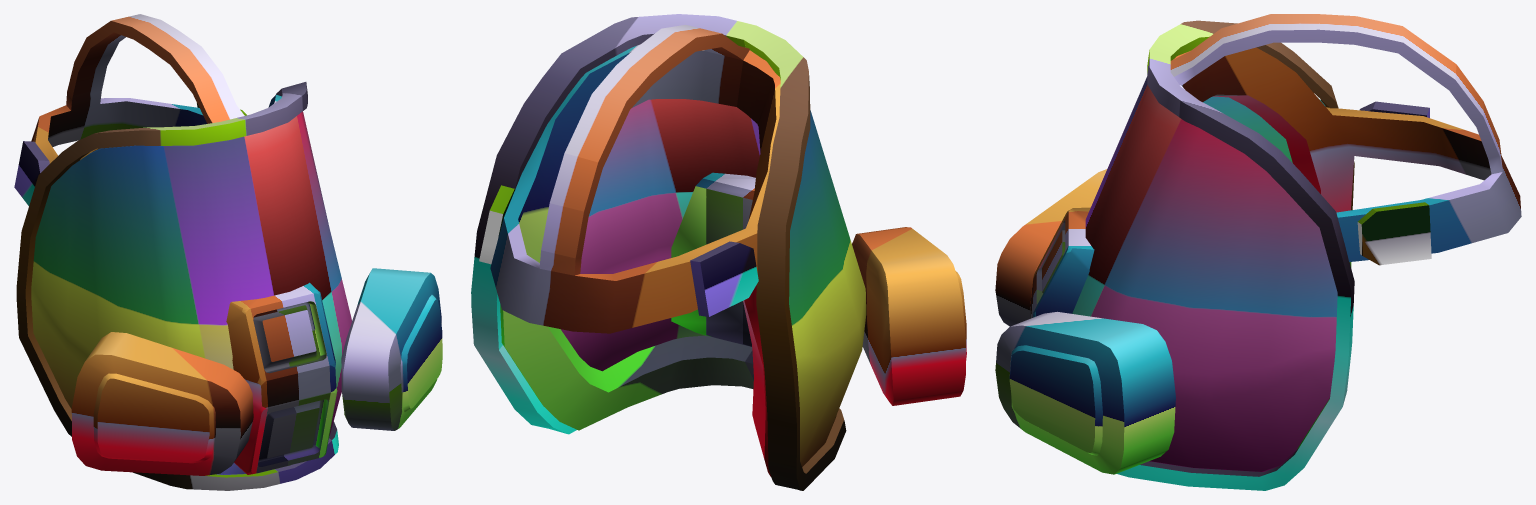
Rendered from Gas mask.fbx.
The picture shows the model from 3 angles, left to right: view 1: azimuth 30°, elevation 25°; view 2: azimuth 150°, elevation 25°; view 3: azimuth 270°, elevation 25°; orthographic projection. The views are drawn at different scales.
Parts seen in each view (by area): view 1: Glass; view 2: Glass; view 3: Glass.
Part boxes in pixels (left/top/right/bottom): Glass: left=14, top=14, right=442, bottom=490; Glass: left=471, top=14, right=966, bottom=490; Glass: left=995, top=14, right=1521, bottom=490.
Size of the model in its own units: 410 by 391 by 458.
Materials: 1 (1 with a texture image).
